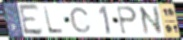1: (97, 5, 113, 36)
C: (68, 7, 93, 34)
E: (17, 4, 45, 36)
L: (42, 6, 65, 35)
N: (137, 5, 165, 36)
P: (116, 5, 138, 36)
